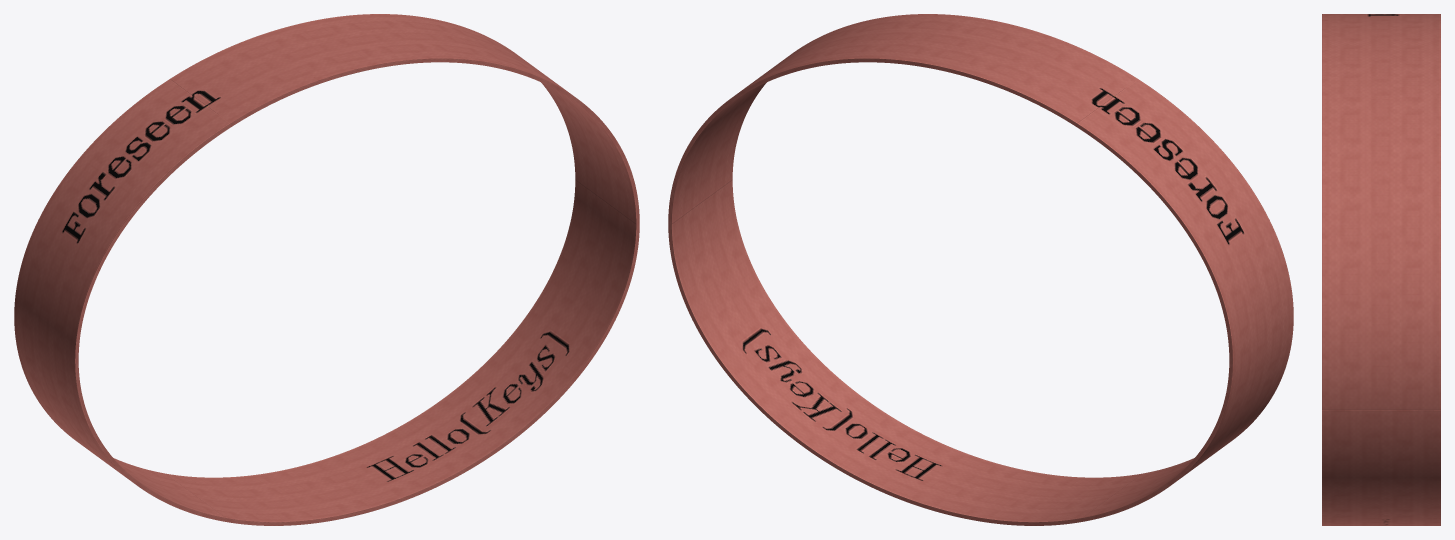
Rendered from Asset8.gltf.
3 views of the same model, side by side, from view 1: azimuth 30°, elevation 25°; view 2: azimuth 150°, elevation 25°; view 3: azimuth 270°, elevation 25° (orthographic). The views are drawn at different scales.
Size of the model in its own units: 0.2746 by 0.2074 by 0.0513.
1 material, 1 textured.
